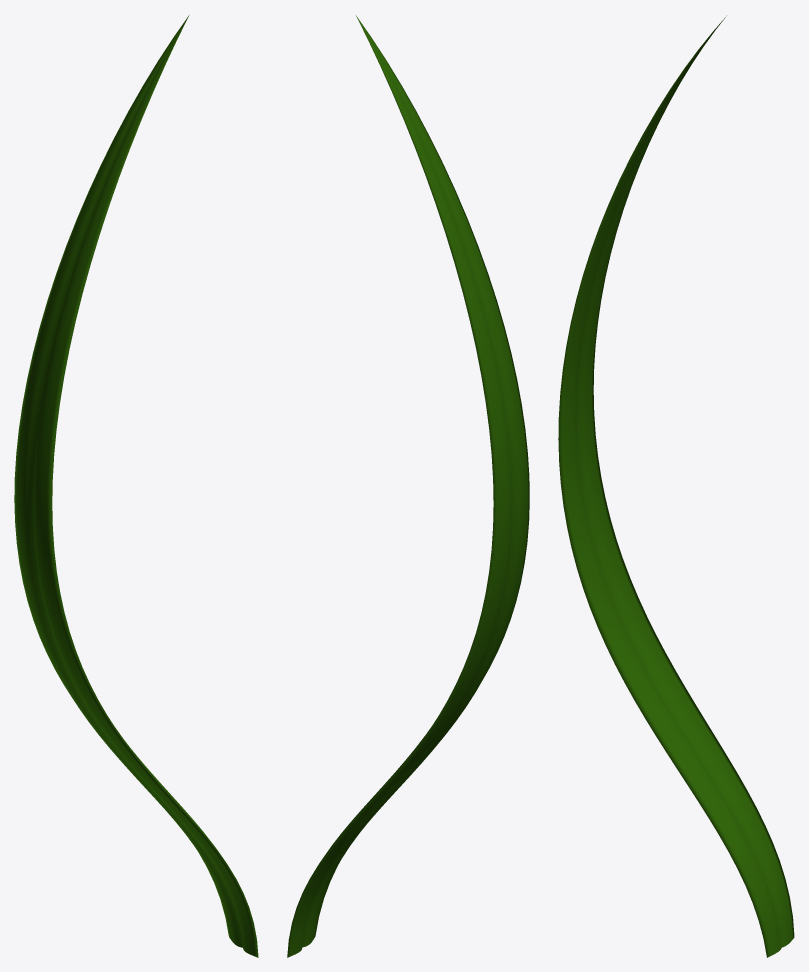
3 renders of one model, left to right at view 1: azimuth 30°, elevation 25°; view 2: azimuth 150°, elevation 25°; view 3: azimuth 330°, elevation 25°, orthographic. The views are drawn at different scales.
Visible parts, largest first — view 1: ТраекторияNurbs.007; view 2: ТраекторияNurbs.007; view 3: ТраекторияNurbs.007.
Boxes of the visible parts, box(x1,y1,x2,y2) form: ТраекторияNurbs.007: box(14, 15, 258, 957); ТраекторияNurbs.007: box(287, 15, 529, 957); ТраекторияNurbs.007: box(558, 17, 794, 957).
Bounding box in the file's own units: 96.11 × 400 × 32.95.
